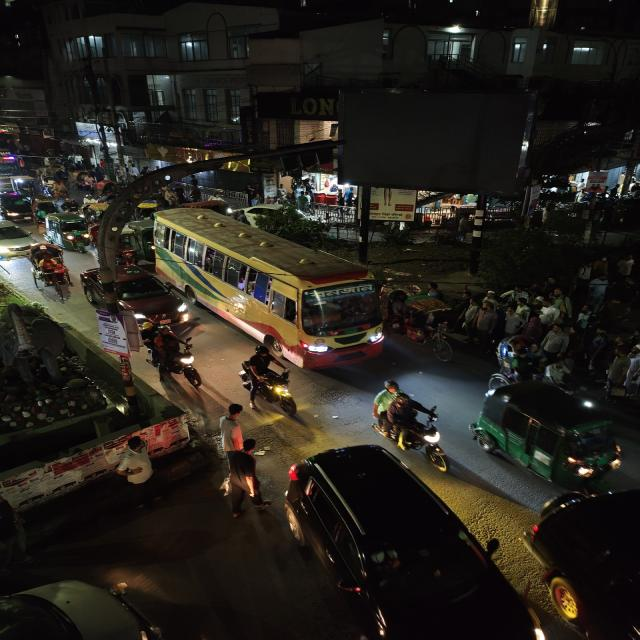bicycle: (216, 446, 267, 520)
bus: (149, 209, 386, 361)
car: (279, 445, 530, 640), (524, 484, 640, 640), (0, 570, 177, 640), (79, 268, 194, 326), (0, 218, 35, 260), (0, 192, 35, 221)
cng: (479, 378, 626, 486), (44, 212, 97, 250)
motorcycle: (380, 388, 449, 468), (237, 346, 302, 414), (140, 324, 203, 386), (110, 232, 144, 273)
pedestrian: (103, 436, 161, 491), (212, 401, 264, 458), (371, 381, 402, 433), (534, 323, 573, 363), (492, 339, 521, 373)
rickshaw: (25, 242, 74, 301), (387, 287, 434, 343)
